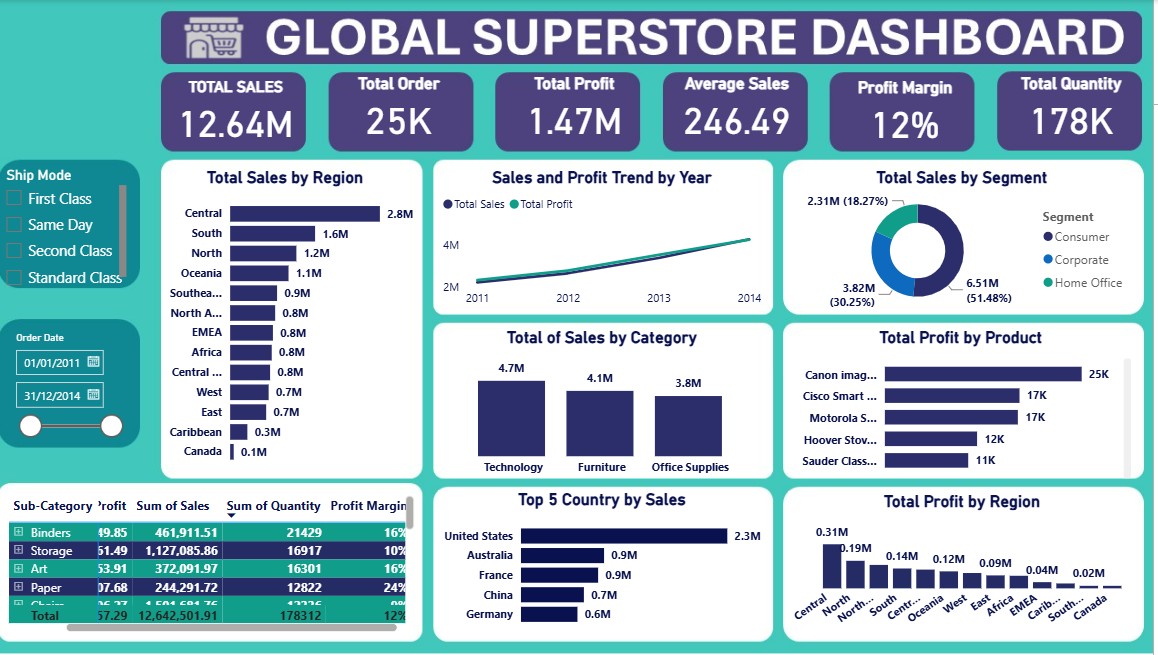

The page's visual inventory and layout, read from the dashboard file:
{"tool":"powerbi","page":{"name":"Page 1","canvas":[1280,720],"ordinal":0},"visuals":[{"type":"lineChart","title":"Sales and Profit Trend by Year","fields":{"Y":["Sum(Global_Superstore2.Sales)"],"Y2":["Sum(Global_Superstore2.Profit)"],"Category":["Date.Date.Variation.Date Hierarchy.Year"]},"box":[495.4,183.9,359.5,161.9],"z":0},{"type":"donutChart","title":"Total Sales by Segment","fields":{"Category":["Global_Superstore2.Segment"],"Y":["Sum(Global_Superstore2.Sales)"]},"box":[879.6,183.9,381.5,161.9],"z":1000},{"type":"pivotTable","fields":{"Rows":["Global_Superstore2.Sub-Category","Global_Superstore2.Category"],"Values":["Sum(Global_Superstore2.Profit)","Sum(Global_Superstore2.Sales)","Sum(Global_Superstore2.Quantity)","Measures (2).Profit Margin"]},"box":[19.2,539.3,454.2,159.2],"z":2000},{"type":"barChart","title":"Total Sales by Region","fields":{"Y":["Sum(Global_Superstore2.Sales)"],"Category":["Global_Superstore2.Region"]},"box":[181.1,183.9,292.3,334.8],"z":3000},{"type":"columnChart","title":"Total of Sales by Category","fields":{"Category":["Global_Superstore2.Category"],"Y":["Sum(Global_Superstore2.Sales)"]},"box":[495.4,359.5,359.5,171.5],"z":4000},{"type":"barChart","title":" Total Profit by Product ","fields":{"Category":["Global_Superstore2.Product Name"],"Y":["Sum(Global_Superstore2.Profit)"]},"box":[876.8,359.5,384.2,171.5],"z":5000},{"type":"slicer","fields":{"Values":["Global_Superstore2.Order Date"]},"box":[19.2,359.5,138.6,122.1],"z":6000},{"type":"clusteredColumnChart","title":"Total Profit by Region","fields":{"Y":["Sum(Global_Superstore2.Profit)"],"Category":["Global_Superstore2.Region"]},"box":[879.6,539.3,381.5,157.8],"z":7000},{"type":"slicer","fields":{"Values":["Global_Superstore2.Ship Mode"]},"box":[8.2,178.4,149.6,142.7],"z":8000},{"type":"barChart","title":"Top 5 Country by Sales","fields":{"Category":["Global_Superstore2.Country"],"Y":["Sum(Global_Superstore2.Sales)"]},"box":[495.4,537.9,359.5,159.2],"z":9000},{"type":"card","title":"TOTAL SALES","fields":{"Values":["Sum(Global_Superstore2.Sales)"]},"box":[200.3,85.1,145.5,79.6],"z":10000},{"type":"card","title":"Total Order","fields":{"Values":["Count(Global_Superstore2.Order ID)"]},"box":[378.7,81,146.8,79.6],"z":11000},{"type":"card","title":"Total Profit","fields":{"Values":["Sum(Global_Superstore2.Profit)"]},"box":[566.7,81,156.4,79.6],"z":12000},{"type":"card","title":"Average Sales","fields":{"Values":["Avg(Global_Superstore2.Sales)"]},"box":[752,81,142.7,79.6],"z":13000},{"type":"card","title":"Profit Margin","fields":{"Values":["Measures (2).Profit Margin"]},"box":[934.5,85.1,146.8,79.6],"z":14000},{"type":"card","title":"Total Quantity","fields":{"Values":["Sum(Global_Superstore2.Quantity)"]},"box":[1119.7,81,141.3,79.6],"z":15000}]}

Visuals, with their boxes in screenshot pixels (x1, y1, x2, y2), scaled from the page's 1280x720 canvas onto the 1158x655 screenshot:
"Sales and Profit Trend by Year" lineChart: <box>448,167,773,315</box>
"Total Sales by Segment" donutChart: <box>796,167,1141,315</box>
pivotTable - Global_Superstore2.Sub-Category x Global_Superstore2.Category: <box>17,491,428,635</box>
"Total Sales by Region" barChart: <box>164,167,428,472</box>
"Total of Sales by Category" columnChart: <box>448,327,773,483</box>
" Total Profit by Product " barChart: <box>793,327,1141,483</box>
slicer - Global_Superstore2.Order Date: <box>17,327,143,438</box>
"Total Profit by Region" clusteredColumnChart: <box>796,491,1141,634</box>
slicer - Global_Superstore2.Ship Mode: <box>7,162,143,292</box>
"Top 5 Country by Sales" barChart: <box>448,489,773,634</box>
"TOTAL SALES" card: <box>181,77,313,150</box>
"Total Order" card: <box>343,74,475,146</box>
"Total Profit" card: <box>513,74,654,146</box>
"Average Sales" card: <box>680,74,809,146</box>
"Profit Margin" card: <box>845,77,978,150</box>
"Total Quantity" card: <box>1013,74,1141,146</box>
